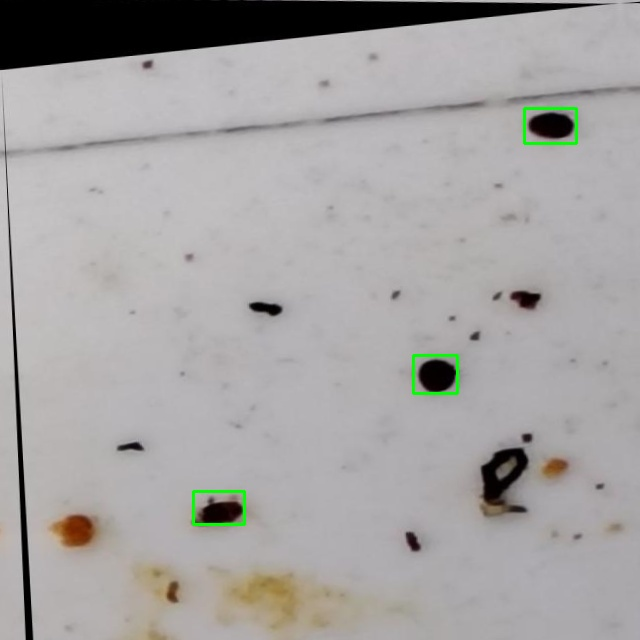varroa: (524, 108, 576, 143), (193, 491, 244, 524), (413, 355, 457, 393)
